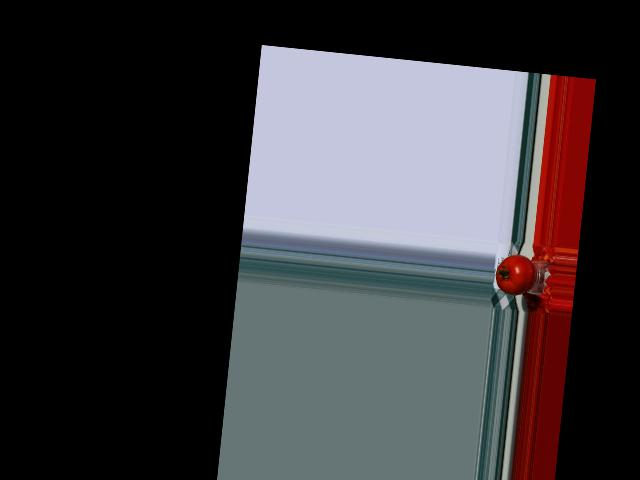tomato: (493, 252, 537, 297)
